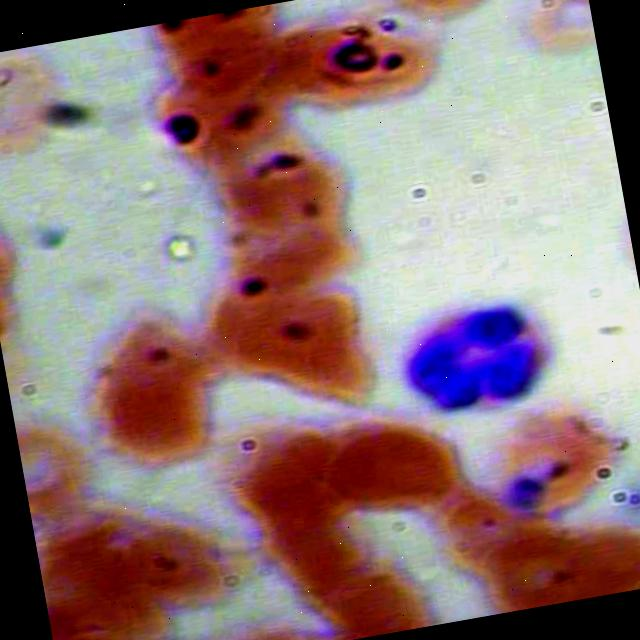RBC: (72, 304, 228, 476), (268, 1, 452, 123), (317, 406, 458, 524)
WBC: (386, 284, 566, 436)
